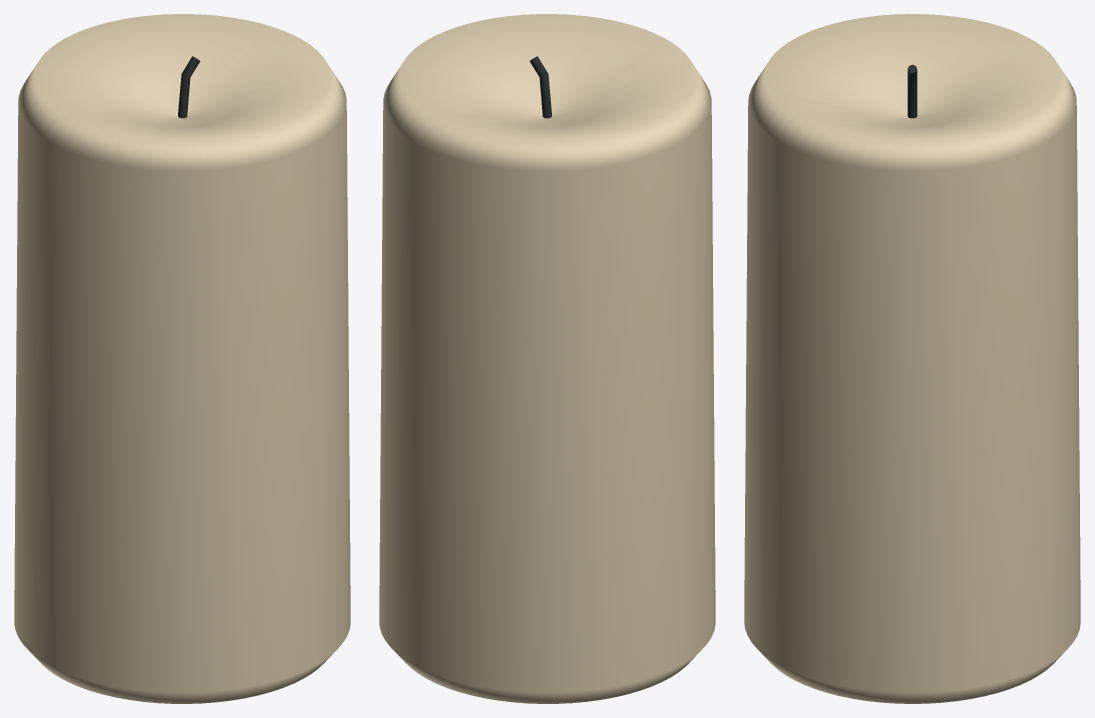
File: horror-standalone-candle.glb
3 renders of one model, left to right at view 1: azimuth 30°, elevation 25°; view 2: azimuth 150°, elevation 25°; view 3: azimuth 270°, elevation 25°, orthographic.
Visible parts, largest first — view 1: Solid pillar wax body, Unlit dark candle wick; view 2: Solid pillar wax body, Unlit dark candle wick; view 3: Solid pillar wax body, Unlit dark candle wick.
Boxes of the visible parts, x1,y1,x2,y2 form: Solid pillar wax body: (14,14,350,703); Unlit dark candle wick: (178,56,200,118); Solid pillar wax body: (379,14,715,703); Unlit dark candle wick: (529,56,551,118); Solid pillar wax body: (744,14,1080,703); Unlit dark candle wick: (907,64,917,118).
Size of the model in its own units: 0.084 by 0.1597 by 0.084.
Materials: 2 (2 with a texture image).
